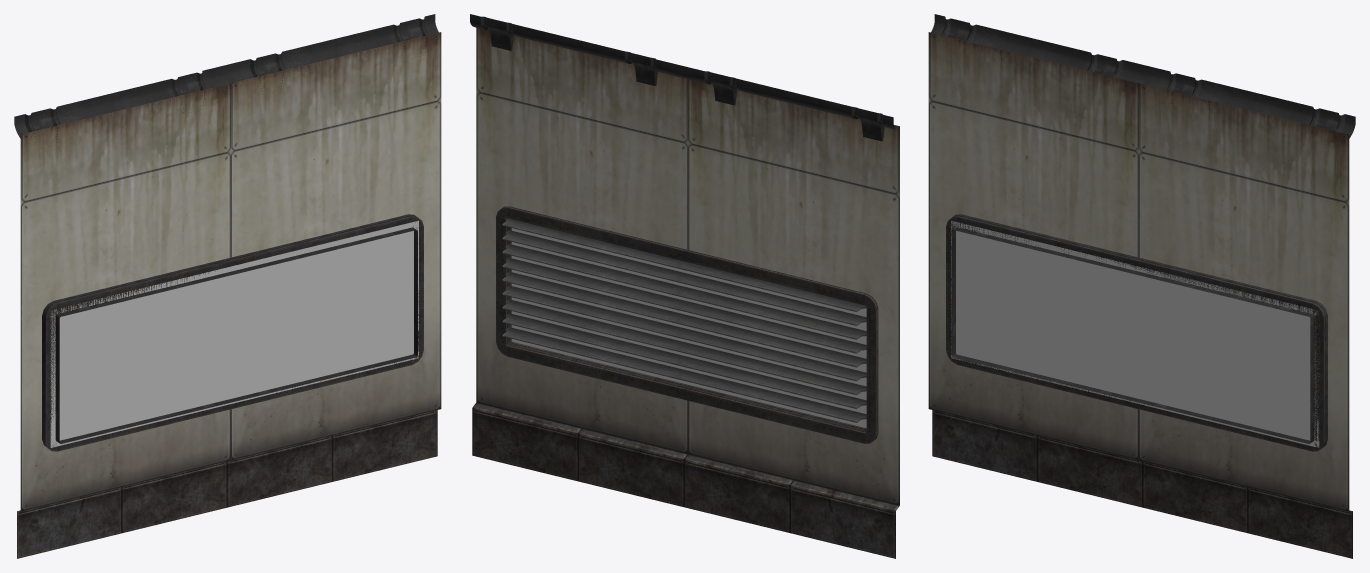
Rendered from lab_window_large_shutter_open.dae.
3 views of the same model, side by side, from view 1: azimuth 30°, elevation 25°; view 2: azimuth 150°, elevation 25°; view 3: azimuth 330°, elevation 25° (orthographic).
Parts seen in each view (by area): view 1: lab_window_large_shutter_open, glass__5_; view 2: lab_window_large_shutter_open, shutter_large_open, glass__5_; view 3: lab_window_large_shutter_open, glass__5_.
Boxes of the visible parts, x1,y1,x2,y2 form: lab_window_large_shutter_open: (14, 14, 441, 558); glass__5_: (50, 220, 418, 447); lab_window_large_shutter_open: (470, 14, 899, 558); shutter_large_open: (502, 218, 866, 422); glass__5_: (511, 228, 866, 428); lab_window_large_shutter_open: (928, 14, 1355, 558); glass__5_: (951, 221, 1319, 447).
Size of the model in its own units: 4 by 4 by 0.2619.
